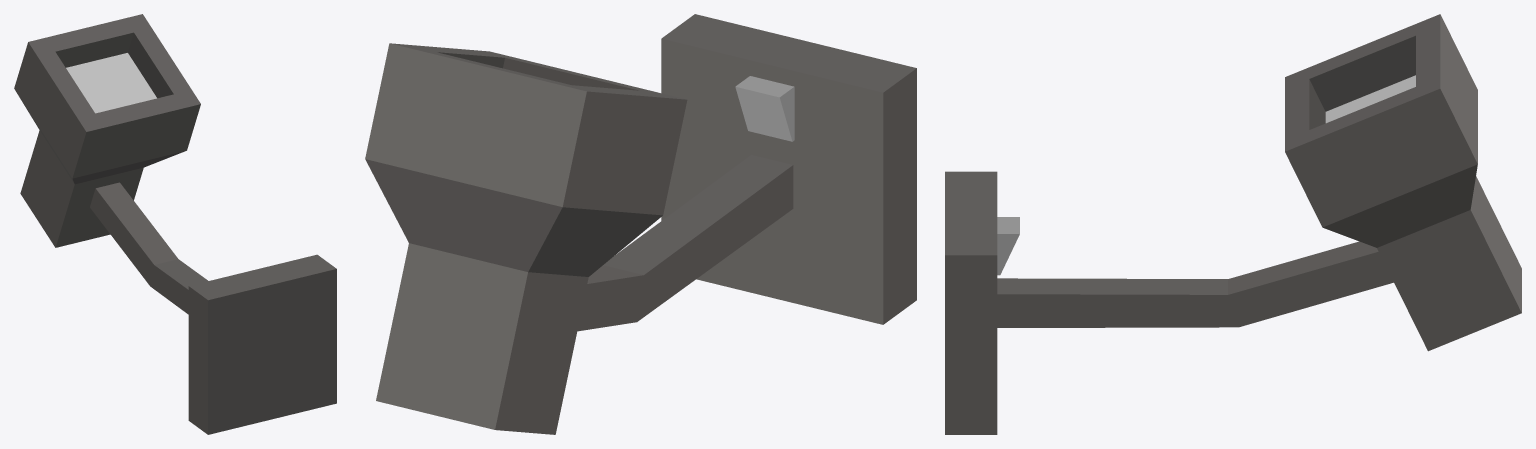
The model's file is Lamp.glb.
3 views of the same model, side by side, from view 1: azimuth 30°, elevation 25°; view 2: azimuth 150°, elevation 25°; view 3: azimuth 270°, elevation 25° (orthographic). The views are drawn at different scales.
Visible parts, largest first — view 1: SO_Lamp_01; view 2: SO_Lamp_01; view 3: SO_Lamp_01.
Part boxes in pixels (left/top/right/bottom): SO_Lamp_01: left=14, top=14, right=336, bottom=434; SO_Lamp_01: left=365, top=14, right=916, bottom=434; SO_Lamp_01: left=945, top=14, right=1521, bottom=434.
Bounding box in the file's own units: 0.2725 × 0.5171 × 0.7928.
1 material, 1 textured.
